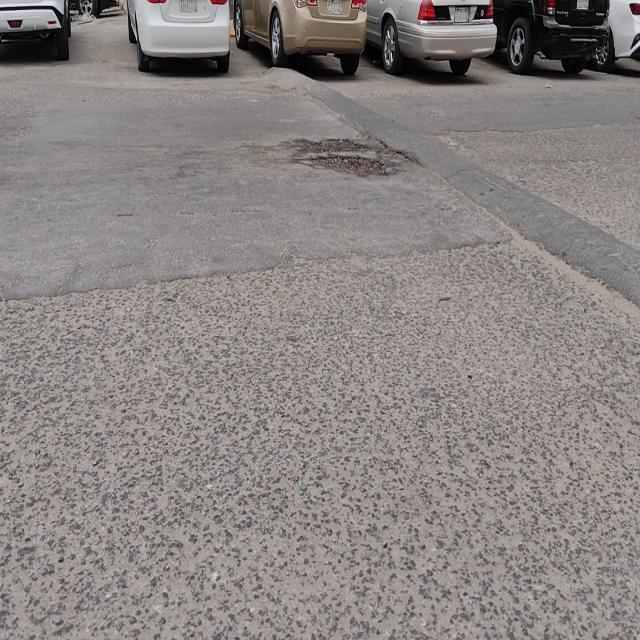Pothole: (308, 155, 387, 176), (290, 138, 377, 153)
Unmarked Bump: (276, 70, 640, 307)
